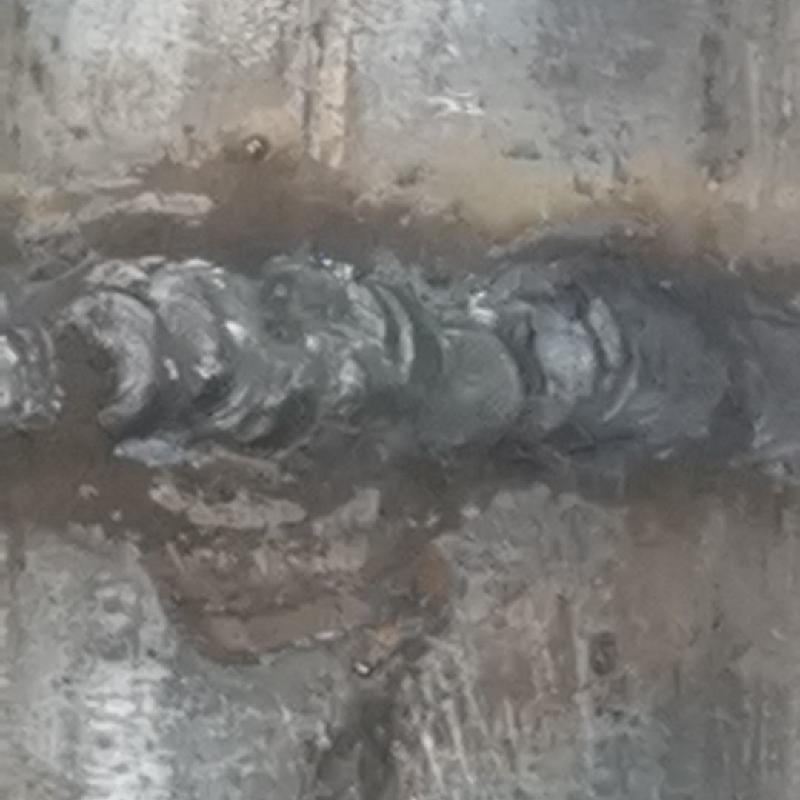good: (3, 245, 799, 468)
